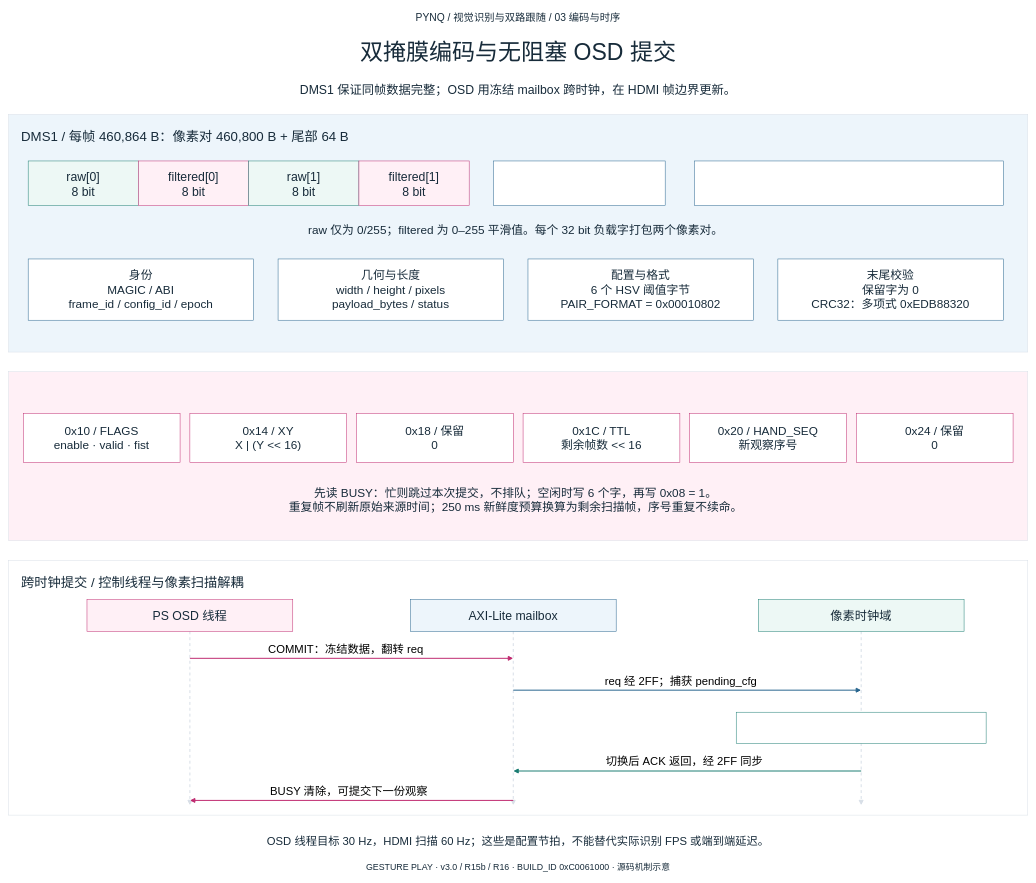
Image size: 1036x883. Some labels were removed from this diagram. Each missing label, with the box of its shape:
16 × uint32 尾部 小端布局；CRC32 覆盖此前全部字节: (694, 160, 1003, 206)
OSD / 6 个 32 bit 影子寄存器 + COMMIT: (8, 371, 1028, 541)
… 640 × 360 像素 内存字节顺序: (493, 160, 665, 206)
帧边界：切换 active_cfg: (736, 712, 986, 744)
